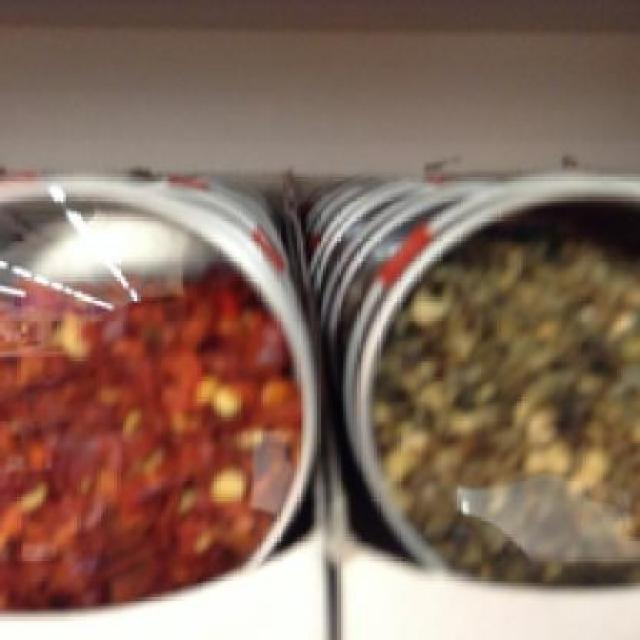Spices: (0, 167, 315, 618), (340, 172, 637, 588)
